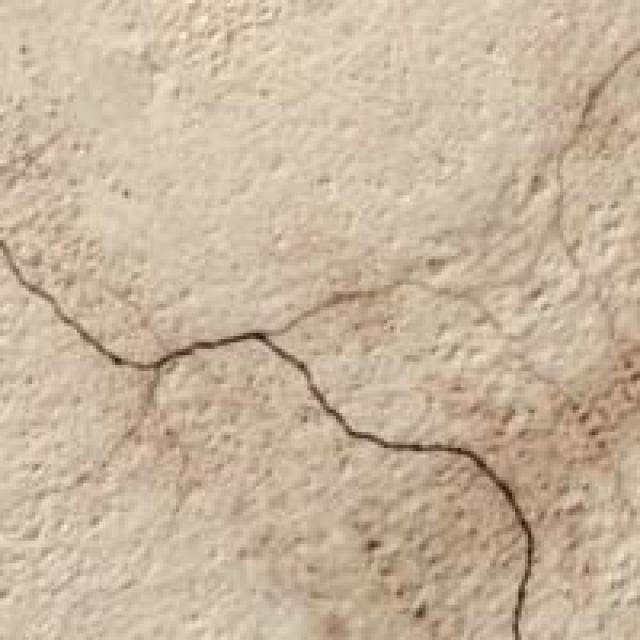Crack: (1, 210, 548, 632)
